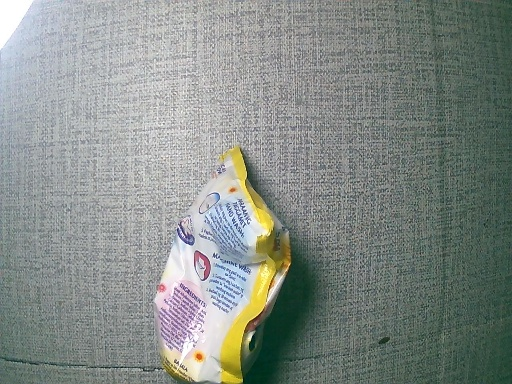plastic: (148, 146, 292, 384)
